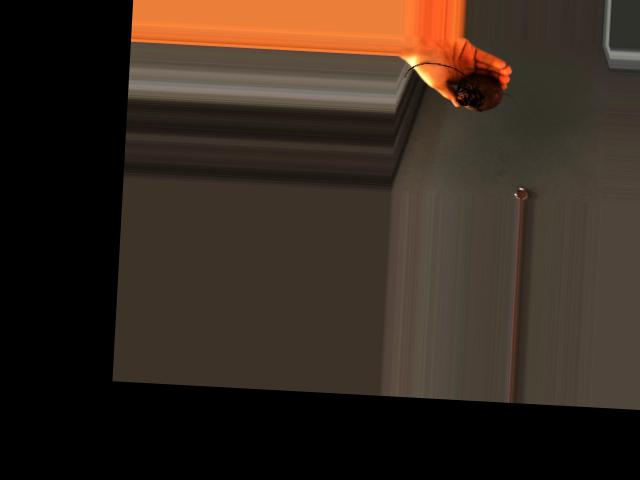beet: (403, 60, 516, 112)
